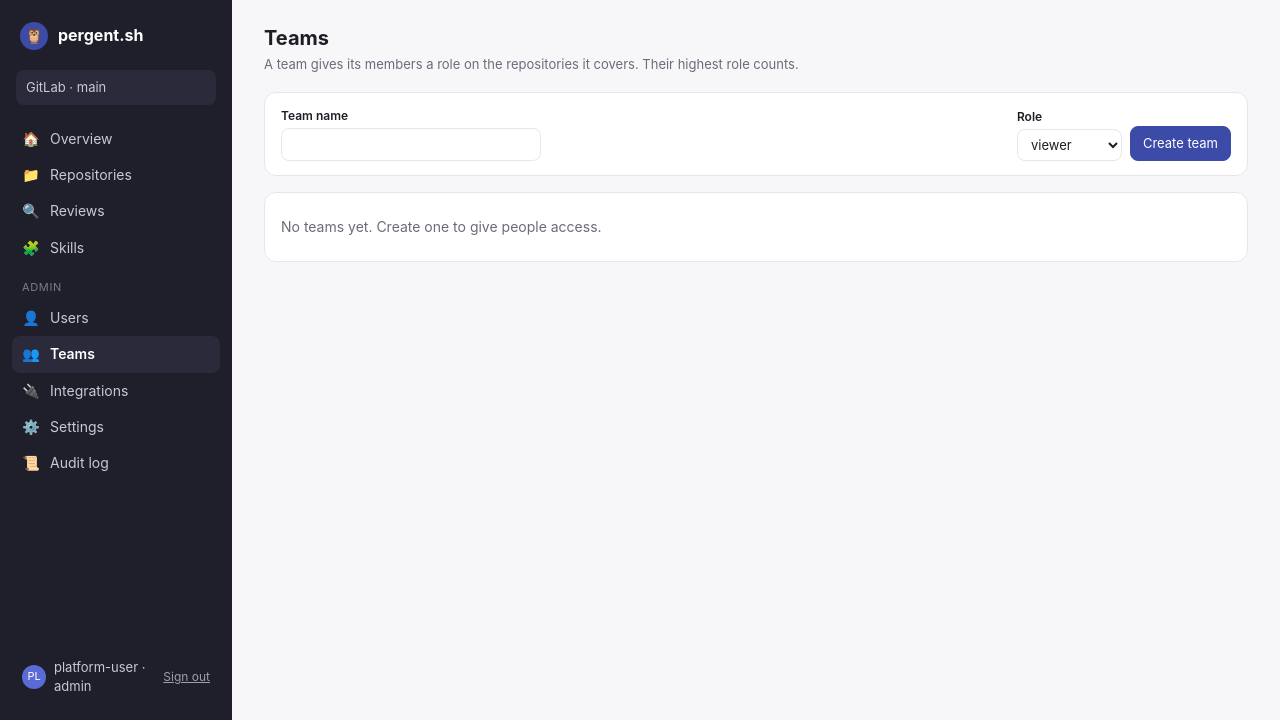
Test case: Teams › creates a team from a name and a role
The width and height of the screenshot is (1280, 720).
Type "Payments" into the field labelled "Team name" at (411, 145), box [281,128,541,161]
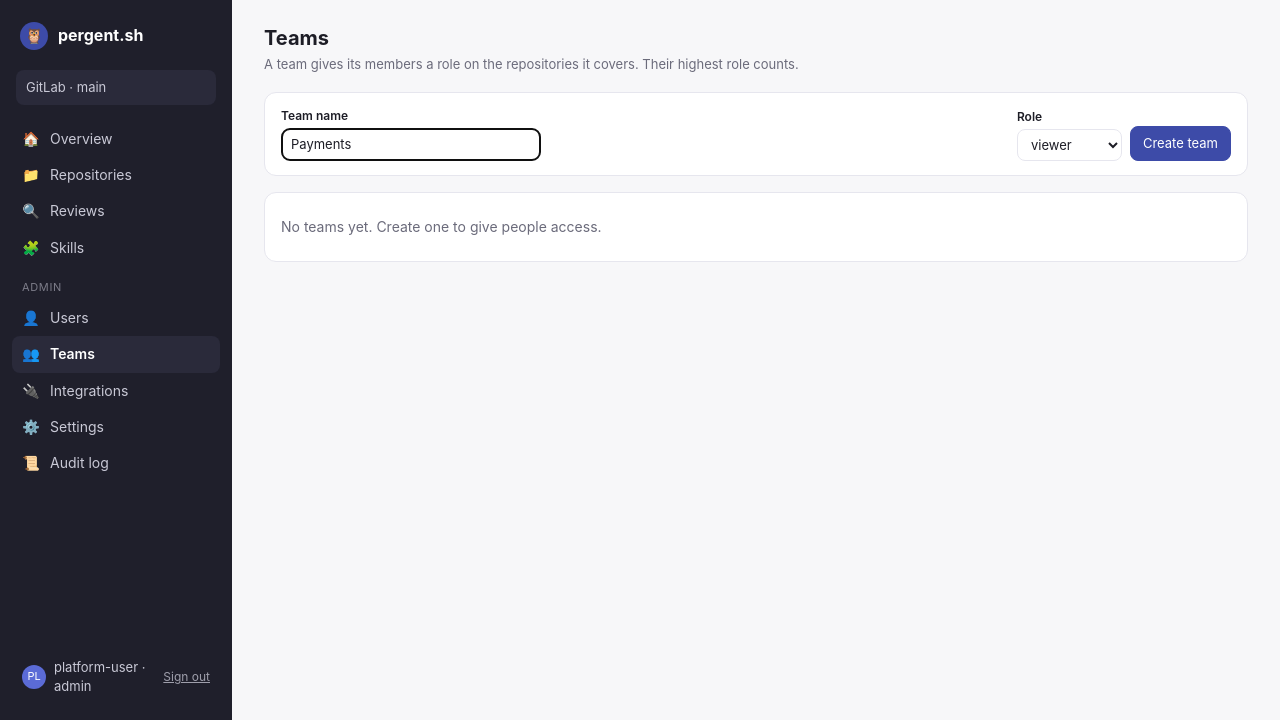
Select "maintainer" in the dropdown labelled "Role" at (1069, 145), box [1017,129,1122,161]
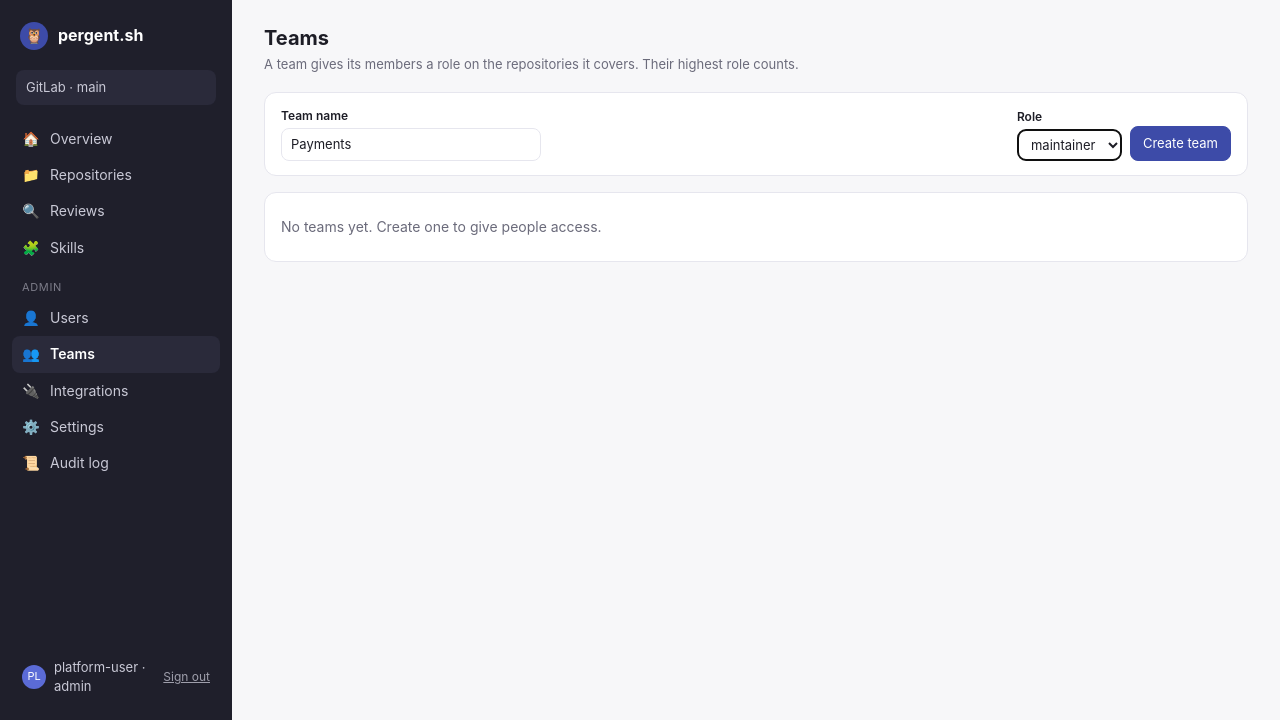
Click the button "Create team" at (1180, 144), box [1130,126,1231,161]
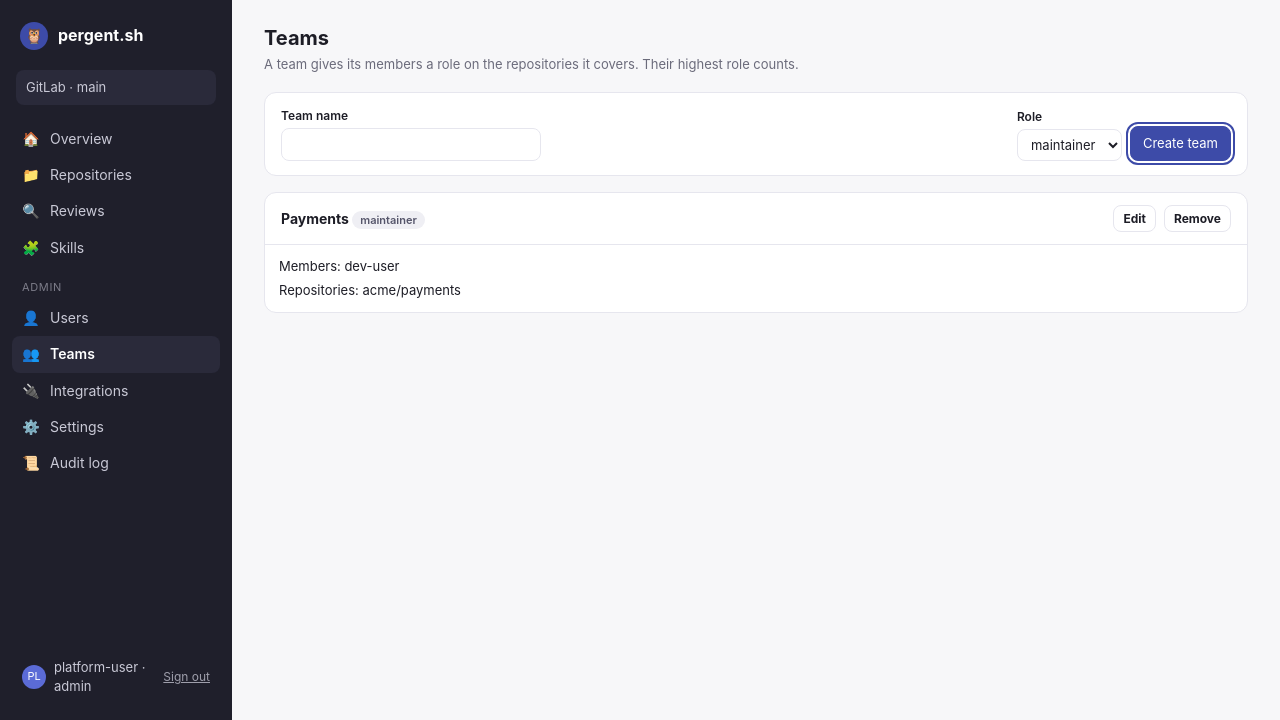
expect the element "Payments" is shown: met, box [264,192,1248,313]
expect the field labelled "Team name" is empty: met, box [281,128,541,161]
